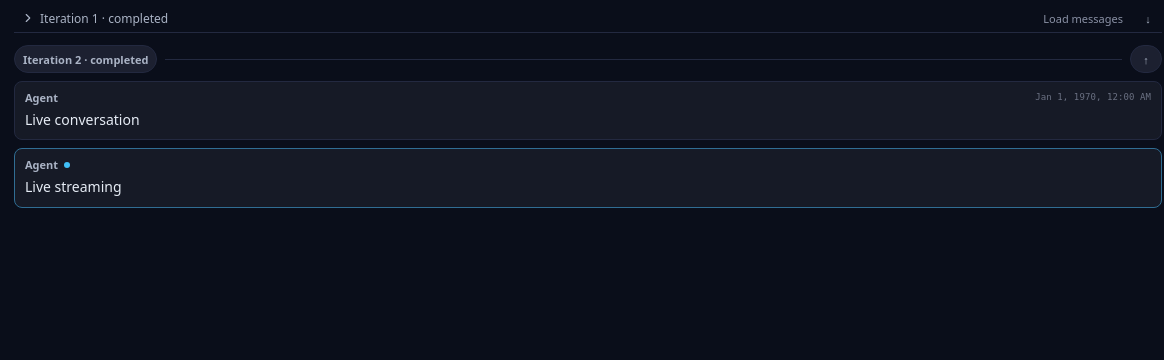
Test case: progressive work-item transcript › loads historical iteration content on demand from durable history, one page at a time
The image size is (1164, 360).
Click the button with aria-label "Show transcript: Iteration 1 · completed".
click(104, 18)  # box [14,4,1130,32]
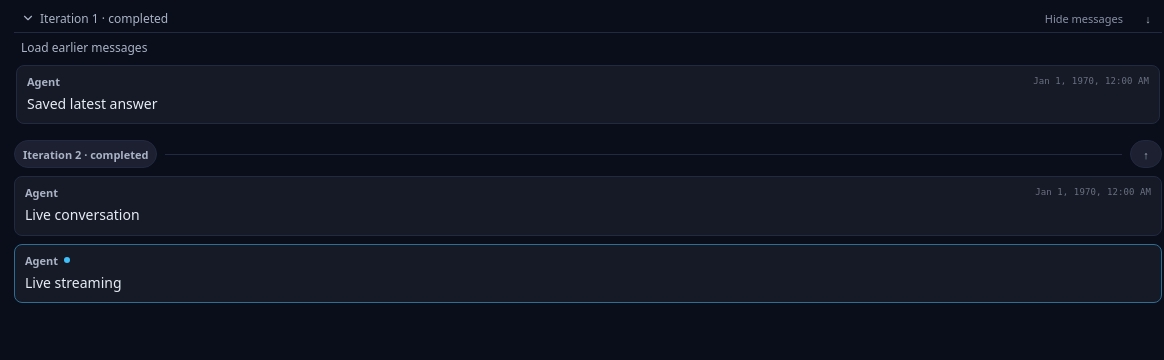
Check: the text "Saved latest answer" is shown, box [27,94,158,113]
Click the button "Load earlier messages".
click(84, 47)  # box [14,33,154,61]
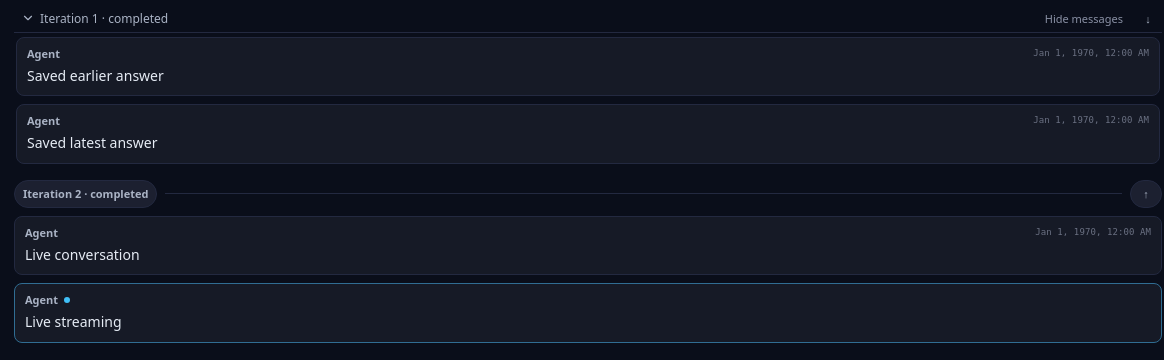
Check: the text "Saved latest answer" is shown, box [27,133,158,152]
Check: the text "Saved earlier answer" is shown, box [27,66,164,85]
Check: the button "Load earlier messages" is gone
Click the button with aria-label "Hide transcript: Iteration 1 · completed".
click(104, 18)  # box [14,4,1130,32]
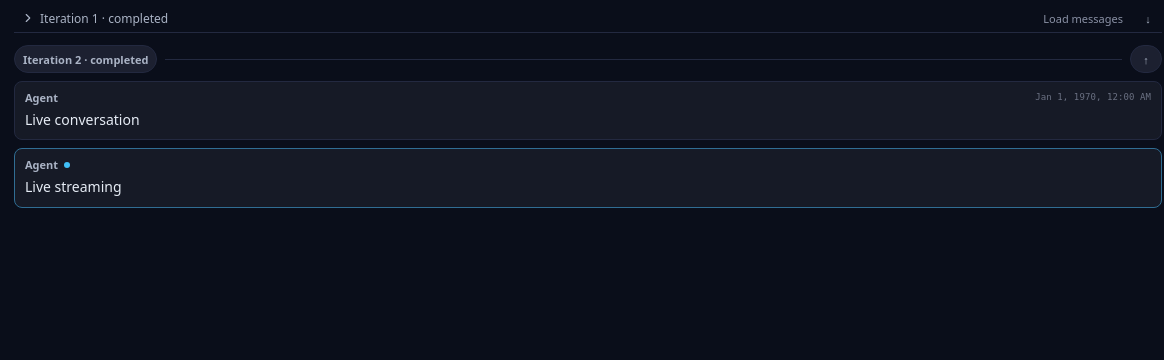
Check: the text "Saved latest answer" is gone
